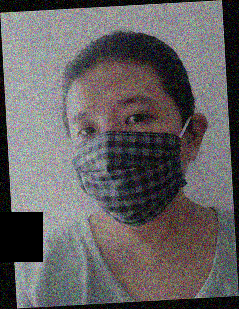with_mask: (69, 95, 187, 229)
